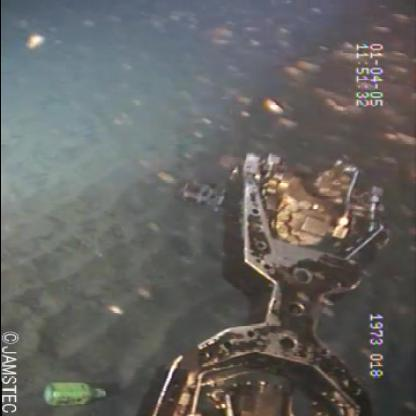Rov: (144, 146, 404, 416)
Rác: (42, 378, 112, 408)
